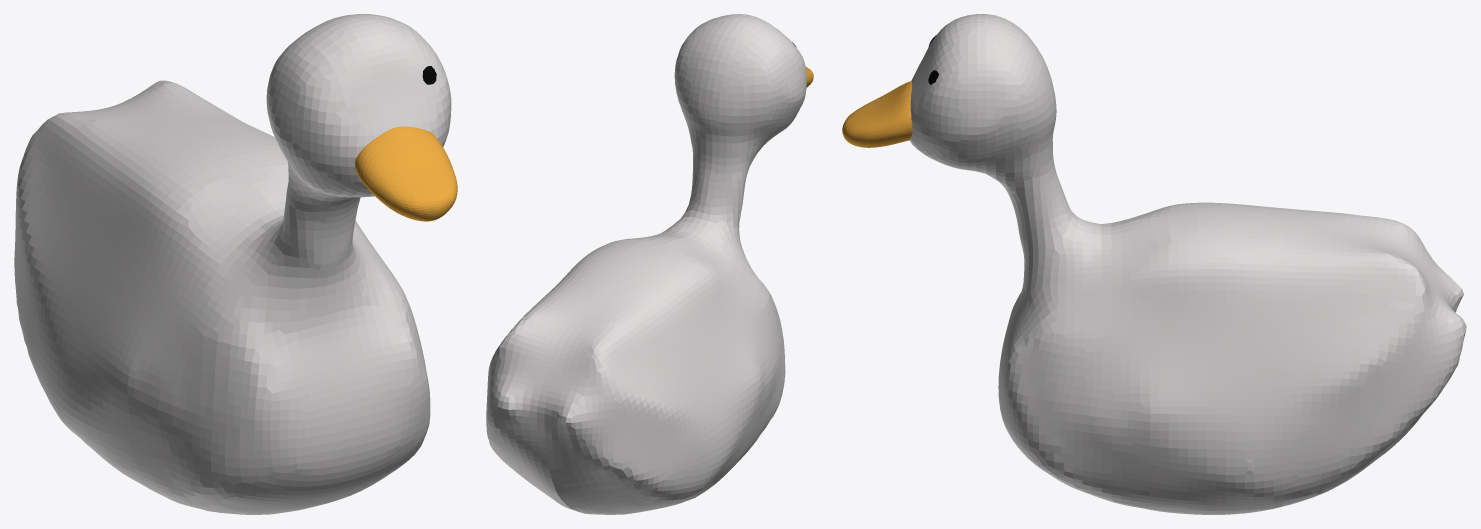
The model's file is duck.fbx.
The picture shows the model from 3 angles, left to right: view 1: azimuth 30°, elevation 25°; view 2: azimuth 150°, elevation 25°; view 3: azimuth 270°, elevation 25°; orthographic projection. The views are drawn at different scales.
Parts seen in each view (by area): view 1: 구체; view 2: 구체; view 3: 구체.
Boxes of the visible parts, x1,y1,x2,y2 form: 구체: (14,14,457,514); 구체: (486,14,813,514); 구체: (842,14,1466,514).
Size of the model in its own units: 249 by 480 by 574.
